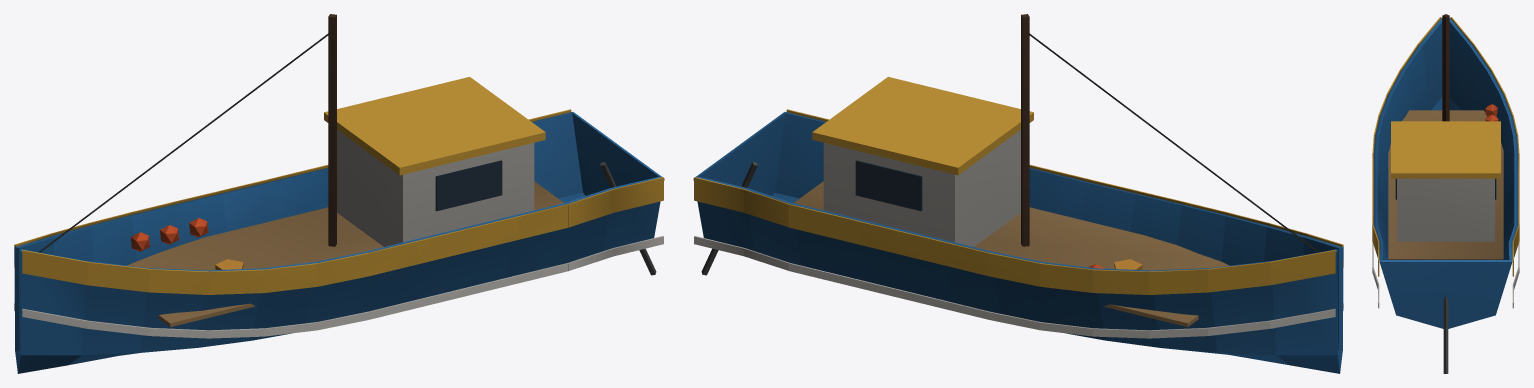
The model's file is mi_fboat_a_lo-JUbGj_Yc.glb.
3 renders of one model, left to right at view 1: azimuth 30°, elevation 25°; view 2: azimuth 150°, elevation 25°; view 3: azimuth 270°, elevation 25°, orthographic. The views are drawn at different scales.
Size of the model in its own units: 8.75 by 4.42 by 2.4.
